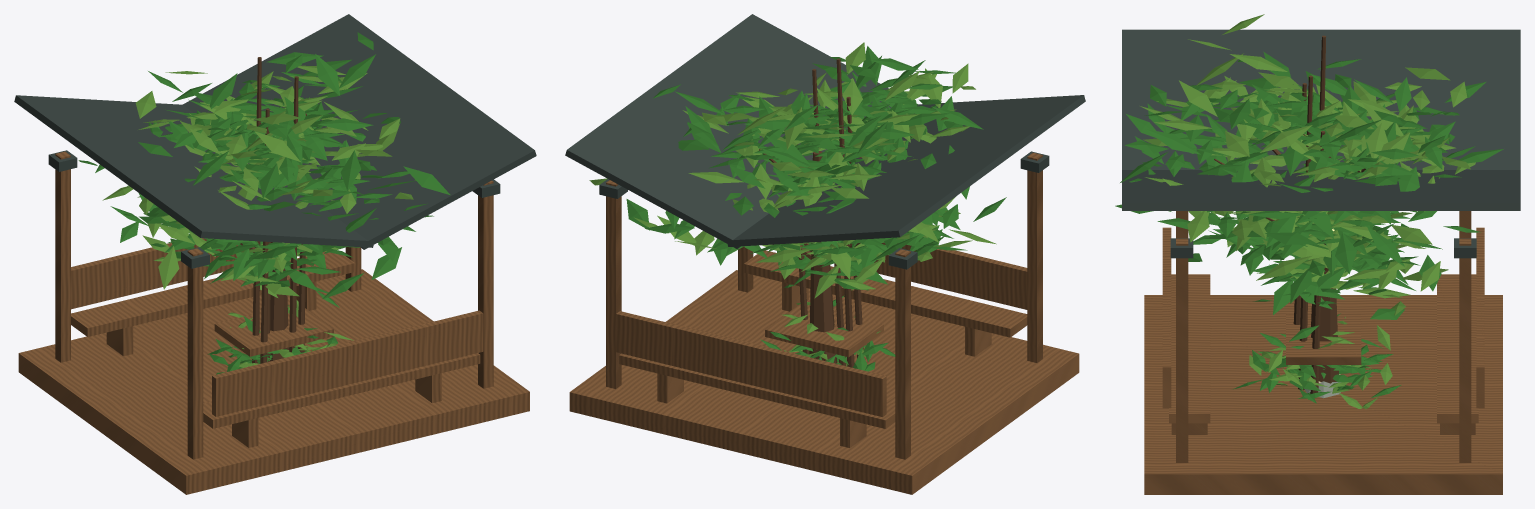
Rendered from lake-decor.glb.
The picture shows the model from 3 angles, left to right: view 1: azimuth 30°, elevation 25°; view 2: azimuth 150°, elevation 25°; view 3: azimuth 270°, elevation 25°; orthographic projection. The views are drawn at different scales.
Parts seen in each view (by area): view 1: pavilion_pack, tree_willow_pack, tree_broadleaf_pack, bamboo_pack, shrub_pack; view 2: pavilion_pack, tree_willow_pack, tree_broadleaf_pack, bamboo_pack, shrub_pack; view 3: pavilion_pack, tree_willow_pack, tree_broadleaf_pack, bamboo_pack, shrub_pack.
Boxes of the visible parts, box(x1,y1,x2,y2) form: pavilion_pack: box(14, 14, 536, 494); tree_willow_pack: box(78, 52, 450, 289); tree_broadleaf_pack: box(95, 32, 427, 361); bamboo_pack: box(198, 57, 363, 363); shrub_pack: box(207, 290, 353, 374); pavilion_pack: box(565, 14, 1085, 494); tree_willow_pack: box(626, 42, 996, 279); tree_broadleaf_pack: box(589, 60, 1006, 363); bamboo_pack: box(712, 58, 919, 367); shrub_pack: box(760, 284, 895, 371); pavilion_pack: box(1122, 29, 1520, 494); tree_willow_pack: box(1115, 51, 1503, 319); tree_broadleaf_pack: box(1126, 14, 1486, 383); bamboo_pack: box(1237, 35, 1406, 393); shrub_pack: box(1232, 313, 1401, 408).
Bounding box in the file's own units: 4.74 × 4.23 × 4.3.
Materials: 10 (1 with a texture image).
